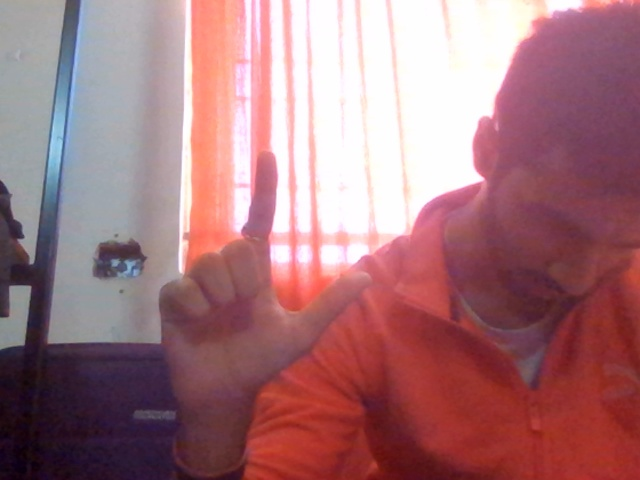L: (122, 146, 421, 480)
